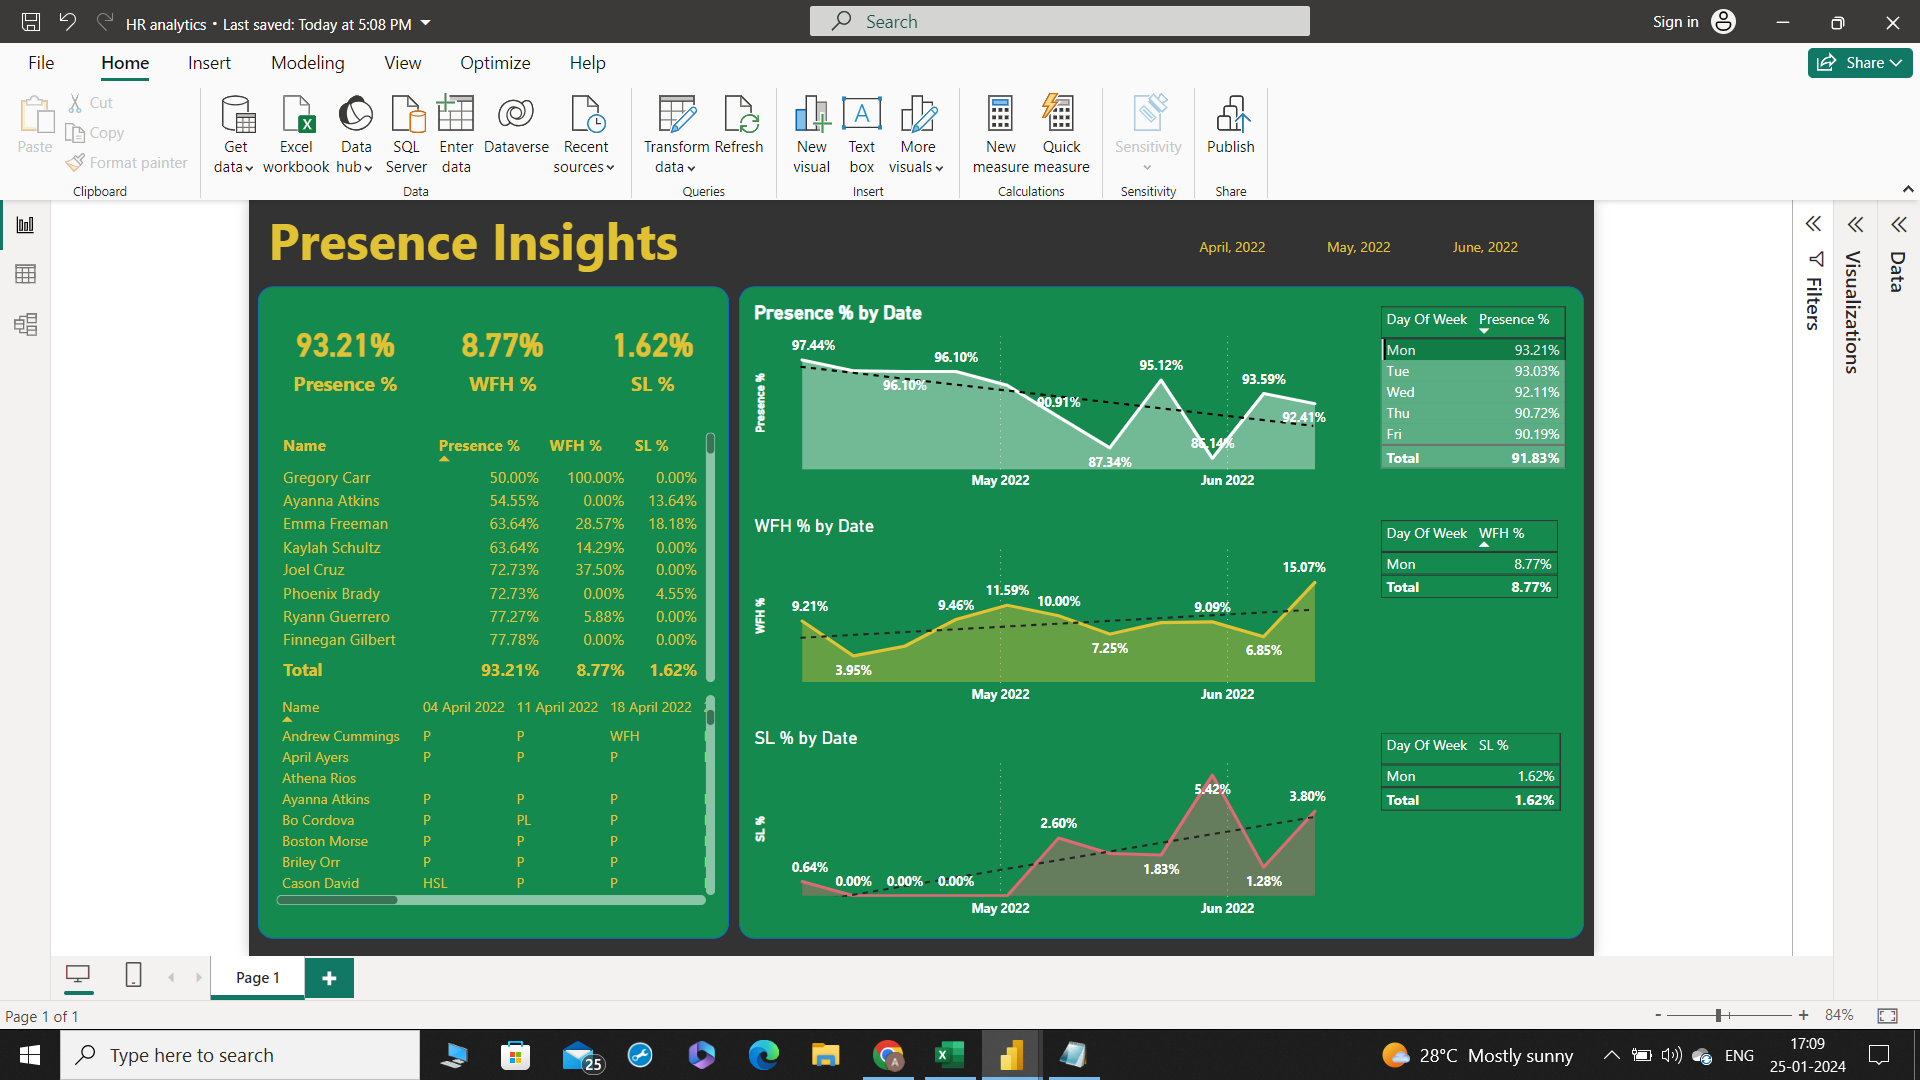

Layout of this report page (visuals, bound fields, positions):
{"tool":"powerbi","page":{"name":"Page 1","canvas":[1280,720],"ordinal":0},"visuals":[{"type":"shape","box":[8.3,82.1,448.7,621.2],"z":0},{"type":"shape","box":[466.5,82.1,804.5,621.2],"z":1000},{"type":"card","fields":{"Values":["Measure Table.Presence %"]},"box":[21.4,96.4,140.4,104.7],"z":2000},{"type":"slicer","fields":{"Values":["Final Data.Month"]},"box":[850.9,15.5,409.4,58.3],"z":3000},{"type":"card","fields":{"Values":["Measure Table.WFH %"]},"box":[185.7,96.4,111.9,104.7],"z":4000},{"type":"card","fields":{"Values":["Measure Table.SL %"]},"box":[320.1,96.4,128.5,104.7],"z":5000},{"type":"tableEx","fields":{"Values":["Final Data.Name","Measure Table.Presence %","Measure Table.WFH %","Measure Table.SL %"]},"box":[21.4,216.6,427.2,247.5],"z":6000},{"type":"textbox","box":[0,0,427.2,80.9],"z":7000},{"type":"pivotTable","fields":{"Rows":["Final Data.Name"],"Columns":["Final Data.Date"],"Values":["Min(Final Data.Value)"]},"box":[21.4,466.5,427.2,209.5],"z":8000},{"type":"areaChart","fields":{"Y":["Measure Table.Presence %"],"Category":["Final Data.Date"]},"box":[476,96.4,570,189.2],"z":9000},{"type":"areaChart","fields":{"Y":["Measure Table.WFH %"],"Category":["Final Data.Date"]},"box":[476,299.9,570,189.2],"z":10000},{"type":"areaChart","fields":{"Y":["Measure Table.SL %"],"Category":["Final Data.Date"]},"box":[476,502.2,570,190.4],"z":11000},{"type":"tableEx","fields":{"Values":["Final Data.Day Of Week","Measure Table.Presence %"]},"box":[1071.1,96.4,189.2,174.9],"z":12000},{"type":"tableEx","fields":{"Values":["Final Data.Day Of Week","Measure Table.WFH %"]},"box":[1071.1,299.9,189.2,164.2],"z":13000},{"type":"tableEx","fields":{"Values":["Final Data.Day Of Week","Measure Table.SL %"]},"box":[1071.1,502.2,189.2,164.2],"z":14000}]}

Visuals, with their boxes on the page's 1280x720 design canvas (x1, y1, x2, y2). These are canvas units, not pixel positions in the 1920x1080 screenshot, which may show the page scaled, cropped or inside an application window:
shape: BBox(8, 82, 457, 703)
shape: BBox(466, 82, 1271, 703)
card - Measure Table.Presence %: BBox(21, 96, 162, 201)
slicer - Final Data.Month: BBox(851, 16, 1260, 74)
card - Measure Table.WFH %: BBox(186, 96, 298, 201)
card - Measure Table.SL %: BBox(320, 96, 449, 201)
tableEx - Final Data.Name x Measure Table.Presence %: BBox(21, 217, 449, 464)
textbox: BBox(0, 0, 427, 81)
pivotTable - Final Data.Name x Final Data.Date: BBox(21, 466, 449, 676)
areaChart - Measure Table.Presence % x Final Data.Date: BBox(476, 96, 1046, 286)
areaChart - Measure Table.WFH % x Final Data.Date: BBox(476, 300, 1046, 489)
areaChart - Measure Table.SL % x Final Data.Date: BBox(476, 502, 1046, 693)
tableEx - Final Data.Day Of Week x Measure Table.Presence %: BBox(1071, 96, 1260, 271)
tableEx - Final Data.Day Of Week x Measure Table.WFH %: BBox(1071, 300, 1260, 464)
tableEx - Final Data.Day Of Week x Measure Table.SL %: BBox(1071, 502, 1260, 666)
